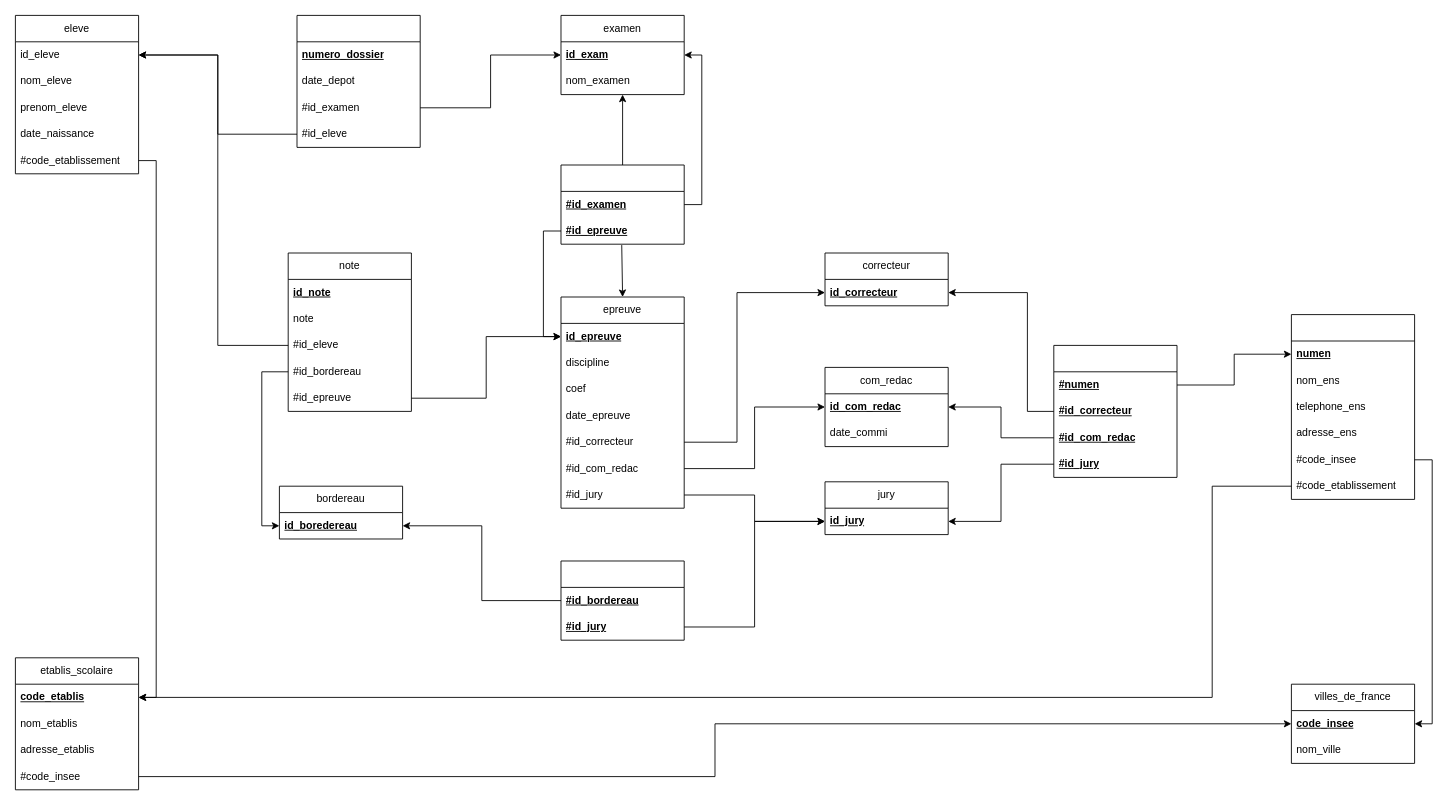
Image size: 1455x805. Some labels were removed from this diagram. Each missing label, with the box of its shape:
convocation: (1053, 345, 1177, 477)
dossier_inscription: (296, 15, 420, 147)
enseignant: (1291, 314, 1415, 499)
examen_epreuve: (560, 164, 684, 244)
jury_examination: (560, 560, 684, 640)
